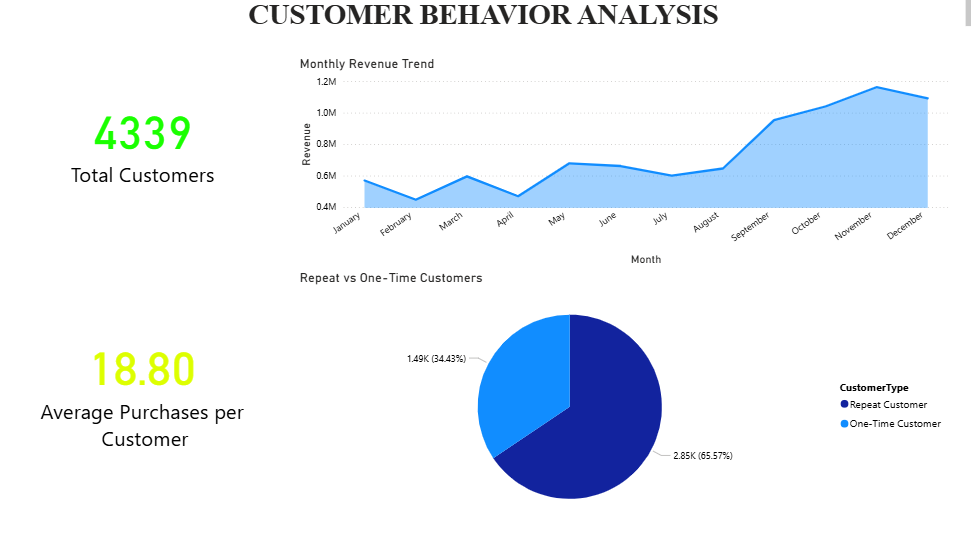

The page's visual inventory and layout, read from the dashboard file:
{"tool":"powerbi","page":{"name":"Page 4","canvas":[1280,720],"ordinal":3},"visuals":[{"type":"card","fields":{"Values":["Count(cleaned_ecommerce_data.CustomerID)"]},"box":[50.7,50.7,279.1,280.6],"z":0},{"type":"card","fields":{"Values":["Avg(cleaned_ecommerce_data.CustomerPurchaseCount)"]},"box":[49.3,361.2,280.6,279.1],"z":1},{"type":"areaChart","title":"Monthly Revenue Trend","fields":{"Category":["cleaned_ecommerce_data.OrderMonth.Variation.Date Hierarchy.Month"],"Y":["Sum(cleaned_ecommerce_data.Revenue)"]},"box":[391.4,81.2,858.8,278.8],"z":3},{"type":"pieChart","title":"Repeat vs One-Time Customers","fields":{"Category":["cleaned_ecommerce_data.CustomerType"],"Y":["Count(cleaned_ecommerce_data.CustomerID)"]},"box":[391.4,361.3,858.8,339.1],"z":4},{"type":"textbox","box":[0,0,1280.6,50],"z":5}]}

Visuals, with their boxes in screenshot pixels (x1, y1, x2, y2), scaled from the page's 1280x720 canvas onto the 971x540 screenshot:
card - Count(cleaned_ecommerce_data.CustomerID): box(38, 38, 250, 248)
card - Avg(cleaned_ecommerce_data.CustomerPurchaseCount): box(37, 271, 250, 480)
"Monthly Revenue Trend" areaChart: box(297, 61, 948, 270)
"Repeat vs One-Time Customers" pieChart: box(297, 271, 948, 525)
textbox: box(0, 0, 970, 38)
